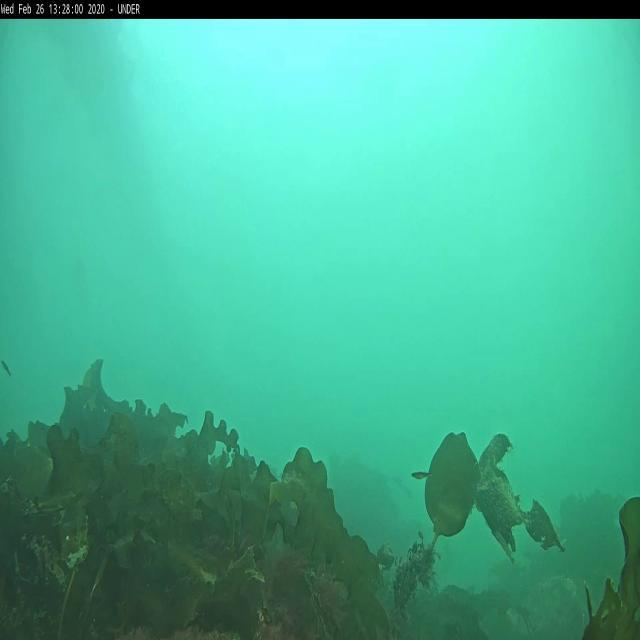fish: (410, 468, 433, 480), (0, 360, 13, 377)
